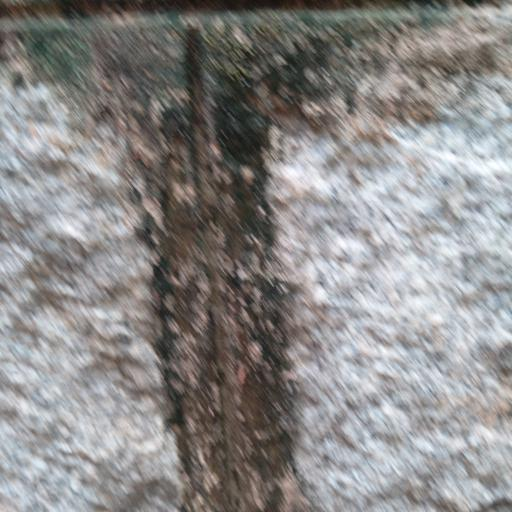algae: (51, 5, 432, 512)
